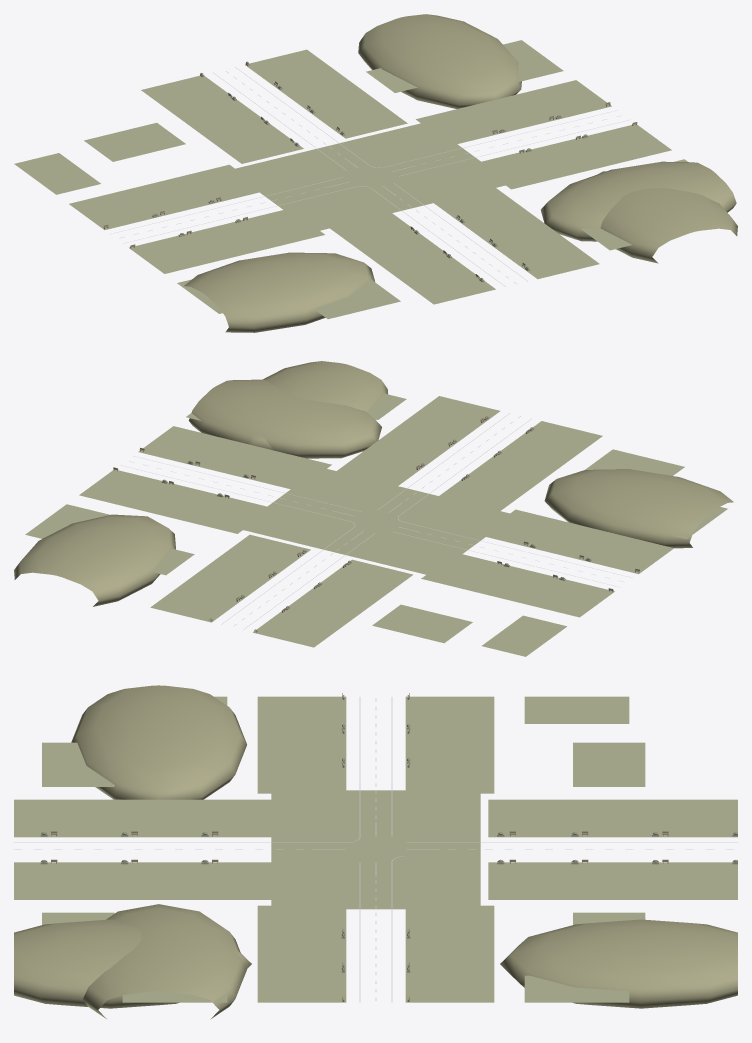
The picture shows the model from 3 angles, top to bottom: view 1: azimuth 30°, elevation 25°; view 2: azimuth 150°, elevation 25°; view 3: azimuth 270°, elevation 25°; orthographic projection. The views are drawn at different scales.
Visible parts, largest first — view 1: static; view 2: static; view 3: static.
Boxes of the visible parts, box(x1,y1,x2,y2) form: static: box(14, 14, 737, 332); static: box(14, 361, 733, 656); static: box(14, 685, 737, 1019).
Size of what is drawn, in the model's own units: 180 by 14.08 by 180.
